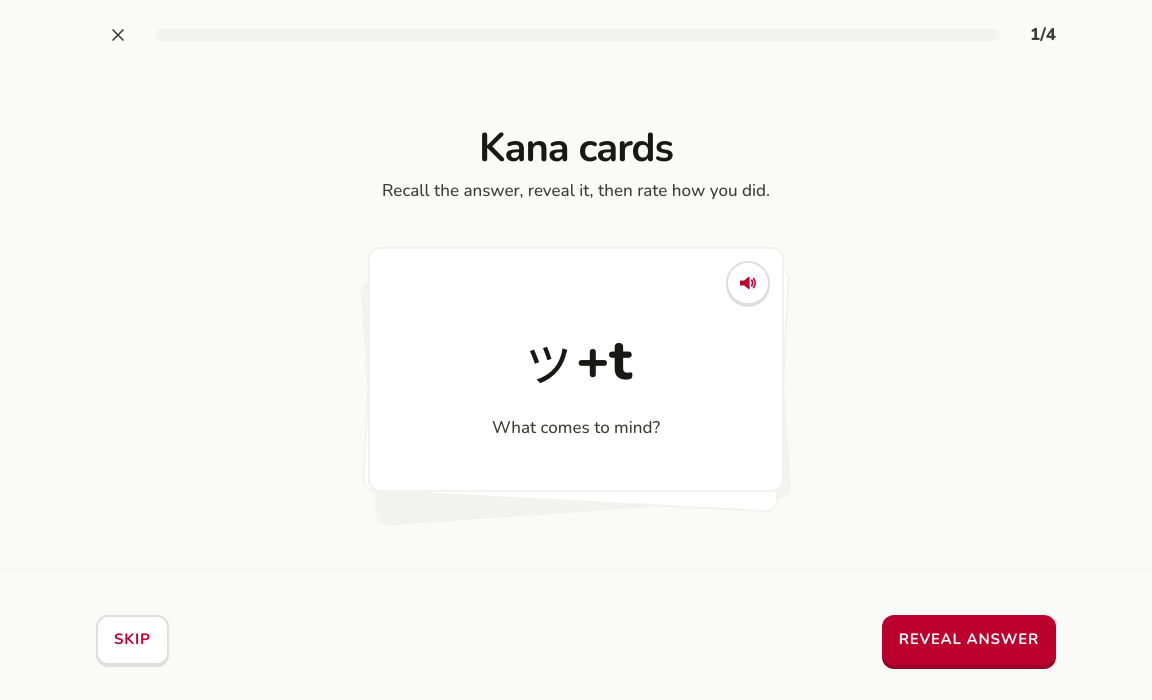
Scenario: offers the selected Kana stack from the hub and restores a hidden first card on re-entry
Expected: the heading "Kana cards" is shown, top-left (479, 121), bottom-right (673, 175)
Click the button "Reveal answer": [969, 640] box top-left (882, 614), bottom-right (1056, 664)
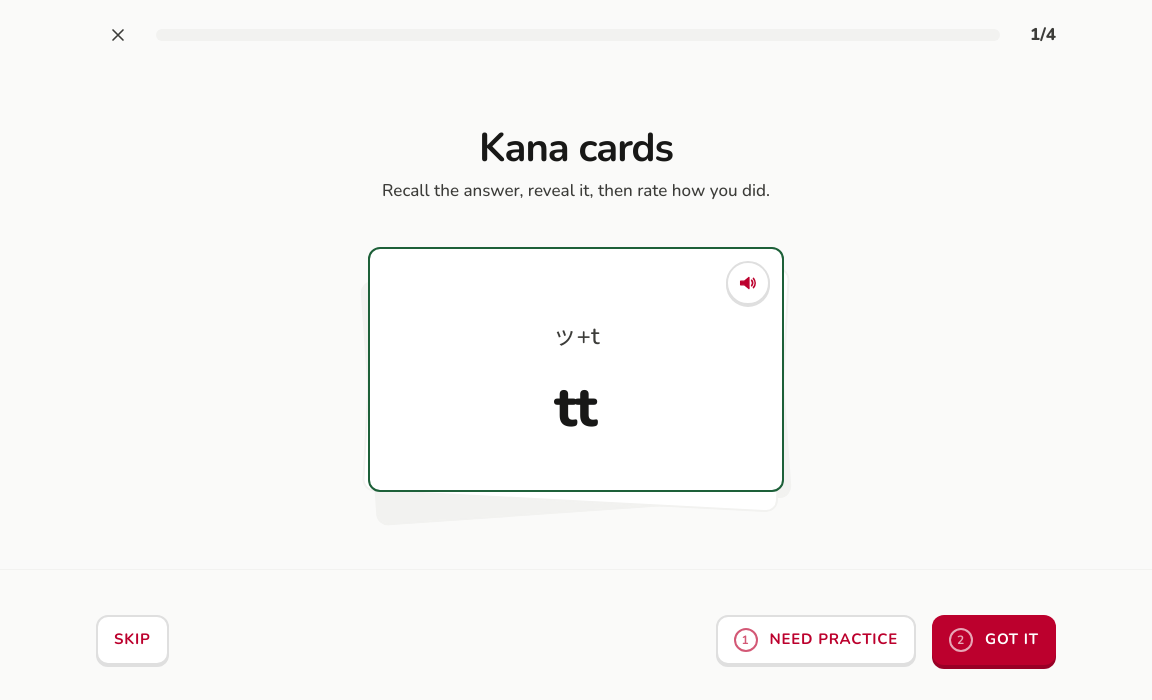
Click the link named "Leave practice": [118, 35] box top-left (108, 25), bottom-right (128, 45)
(page scrolled)
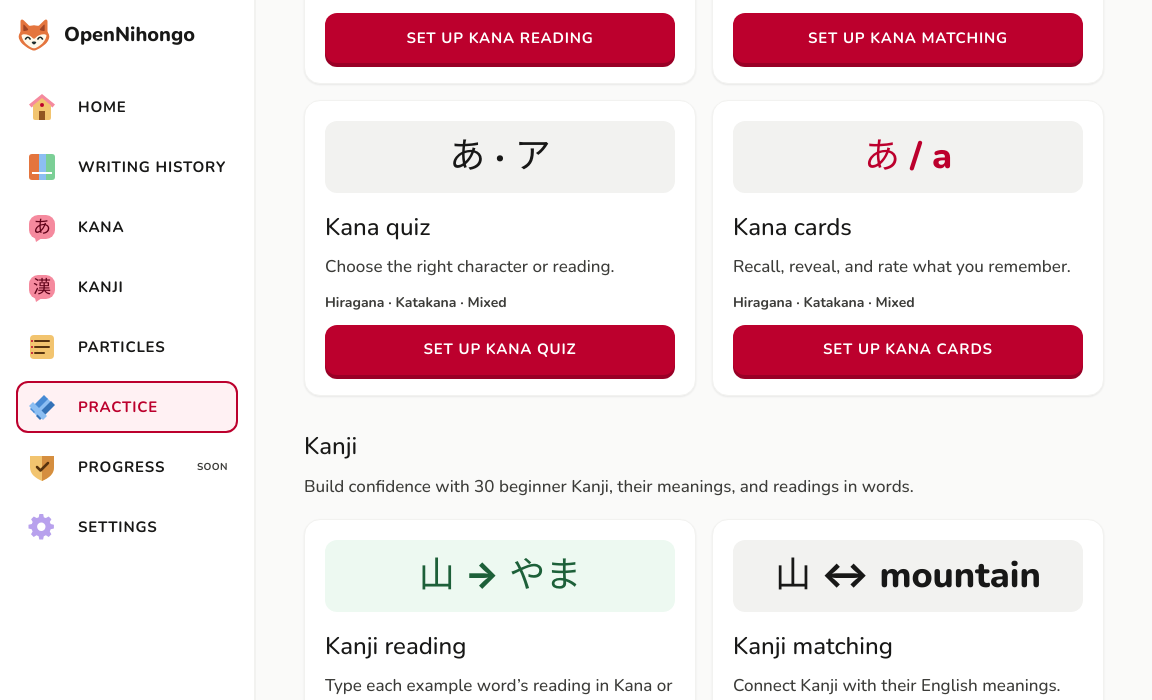
Expected: the element "Kana cards" shows "Recall", top-left (733, 255), bottom-right (1071, 278)
Click the link "Set up Kana cards": [908, 350] box top-left (733, 325), bottom-right (1083, 375)
(page scrolled)
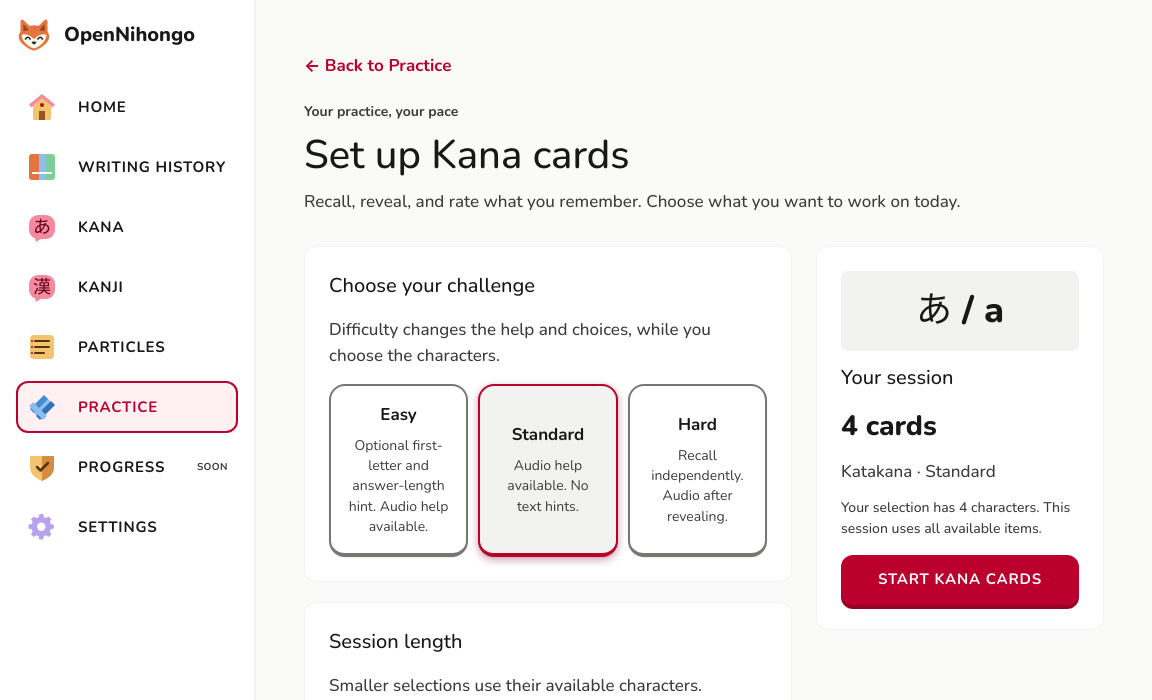
Click the button "Start Kana cards": [960, 580] box top-left (841, 555), bottom-right (1079, 605)
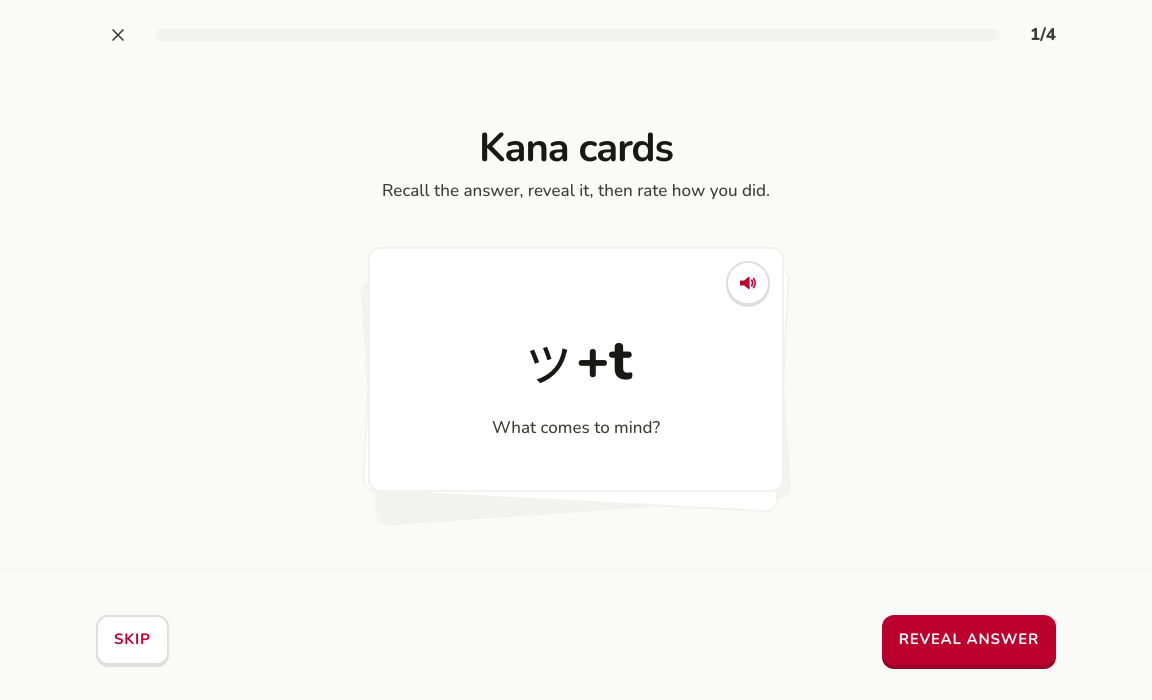
Expected: the button named "Play pronunciation" is shown, top-left (726, 261), bottom-right (770, 305)
Expected: the text "1/4" is shown, top-left (1030, 23), bottom-right (1056, 46)
Expected: the button "Reveal answer" is shown, top-left (882, 614), bottom-right (1056, 664)
